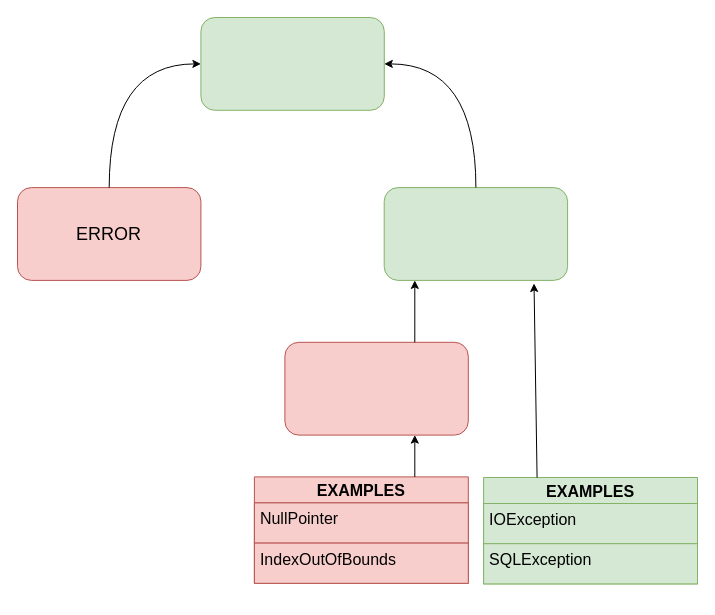
Some shapes in this 715 by 615 pixel diagram are drawn without their labels. Each missing label, with the box of its shape:
EXCEPTION: (383, 187, 568, 280)
RUNTIME EXCEPTION: (284, 341, 468, 435)
THROWABLE: (200, 16, 384, 110)
